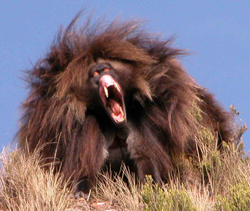Gelada: (48, 38, 212, 183)
